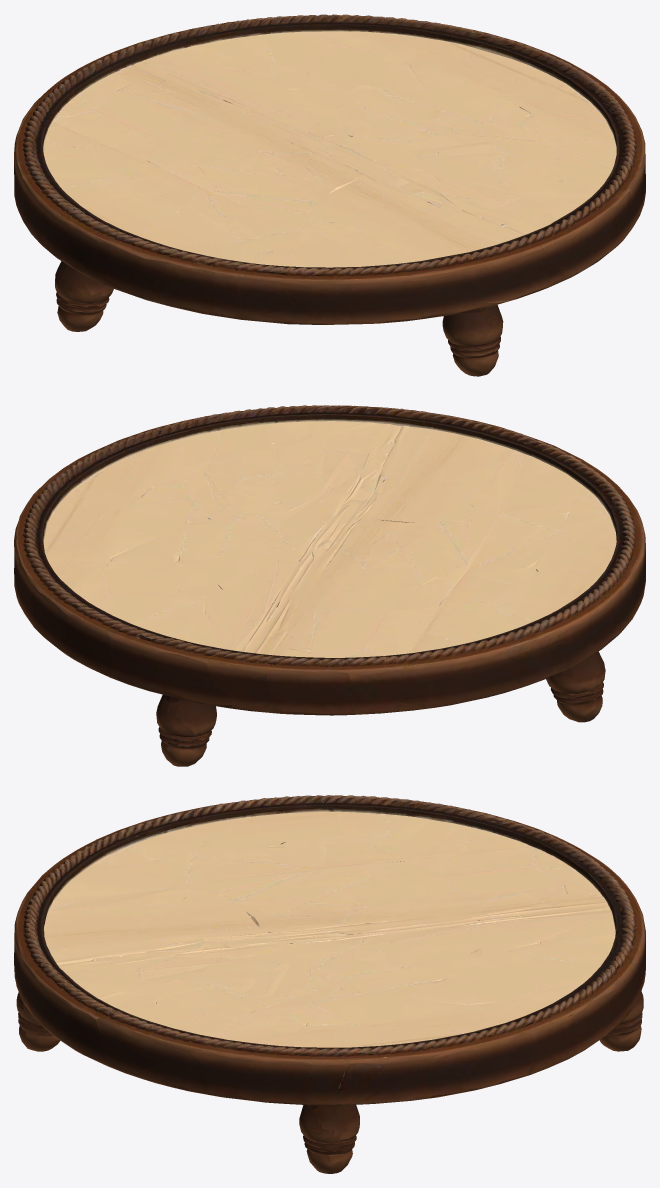
File: plateau.glb
The picture shows the model from 3 angles, top to bottom: view 1: azimuth 30°, elevation 25°; view 2: azimuth 150°, elevation 25°; view 3: azimuth 270°, elevation 25°; orthographic projection.
Size of the model in its own units: 1.9 by 0.4114 by 1.9.
1 material, 1 textured.
